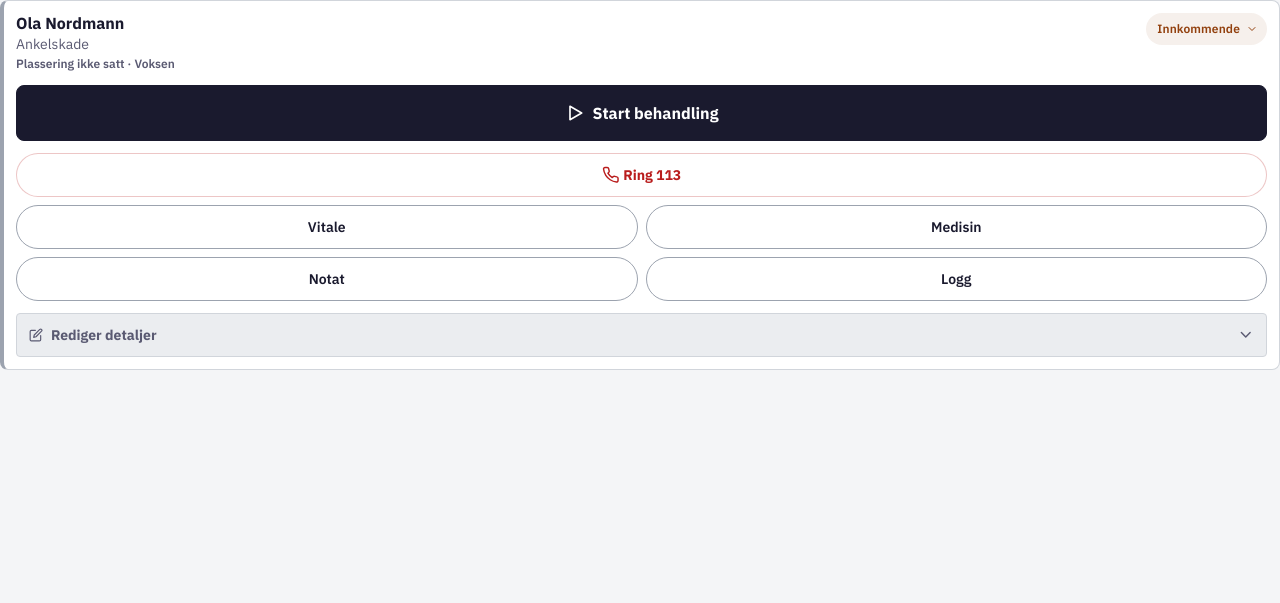
Test: PatientCard — placement editor free-number quick picks (item 8.30) › offers the lowest free numbers for the chosen type
The width and height of the screenshot is (1280, 603).
Click the button with test id "edit-details-toggle-pat-transport-1" at [104, 335], box [16, 313, 1267, 357]
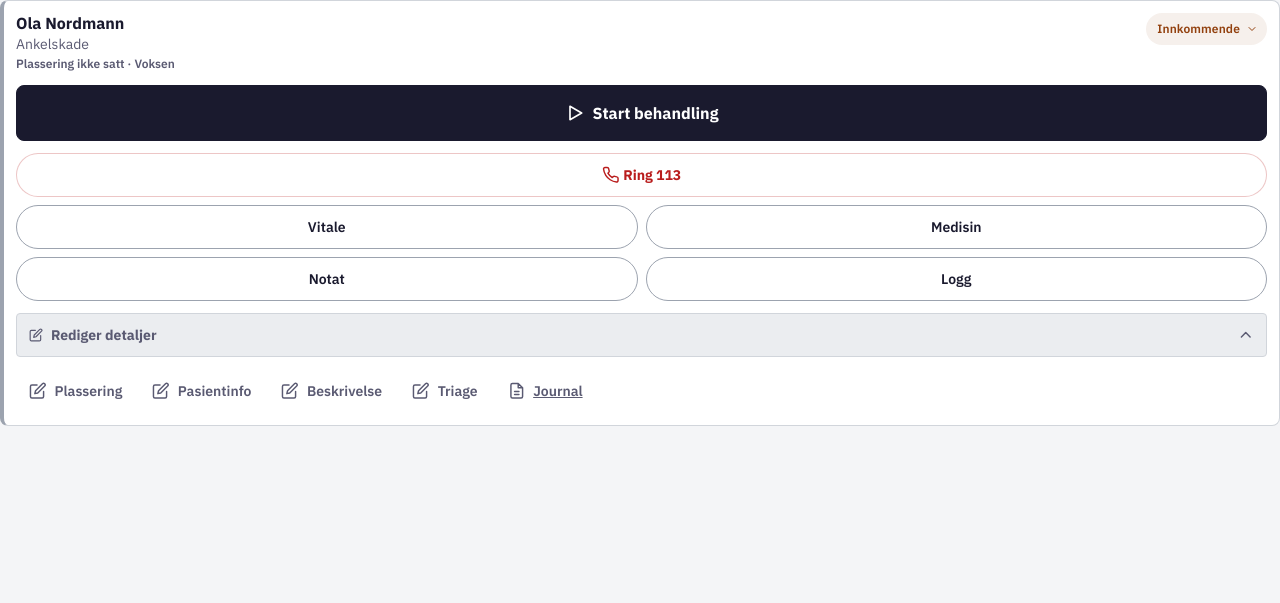
Click the button with aria-label "Rediger plassering" at [76, 391], box [16, 369, 135, 413]
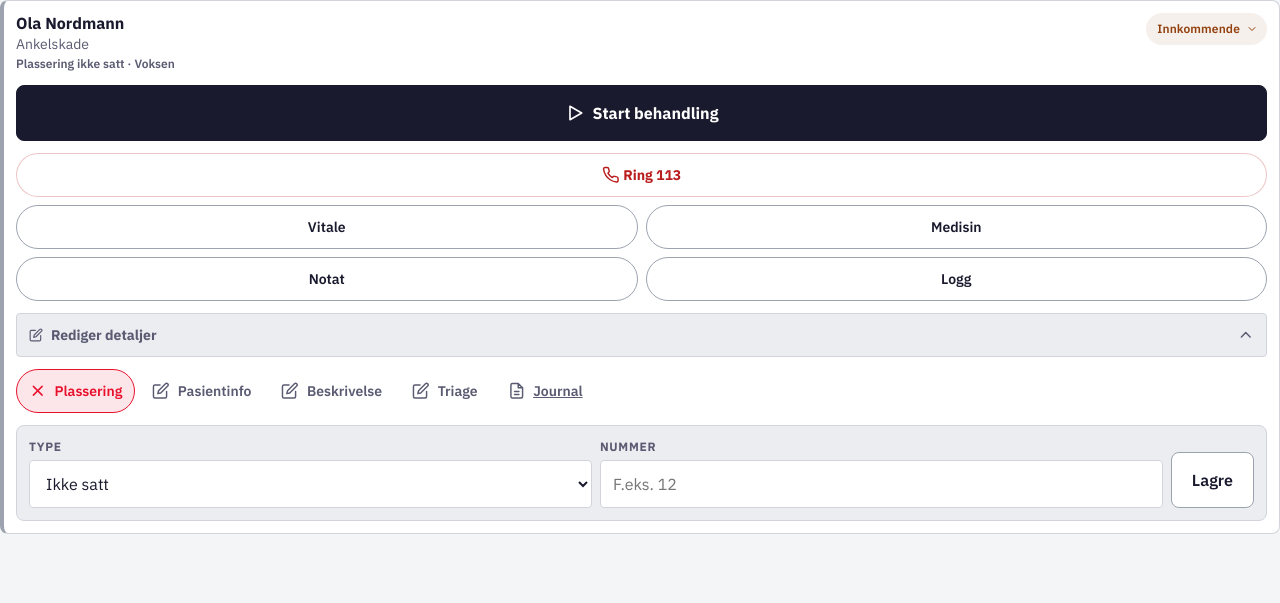
Select "Stol" in the dropdown labelled "Type" at [310, 484], box [29, 460, 592, 508]
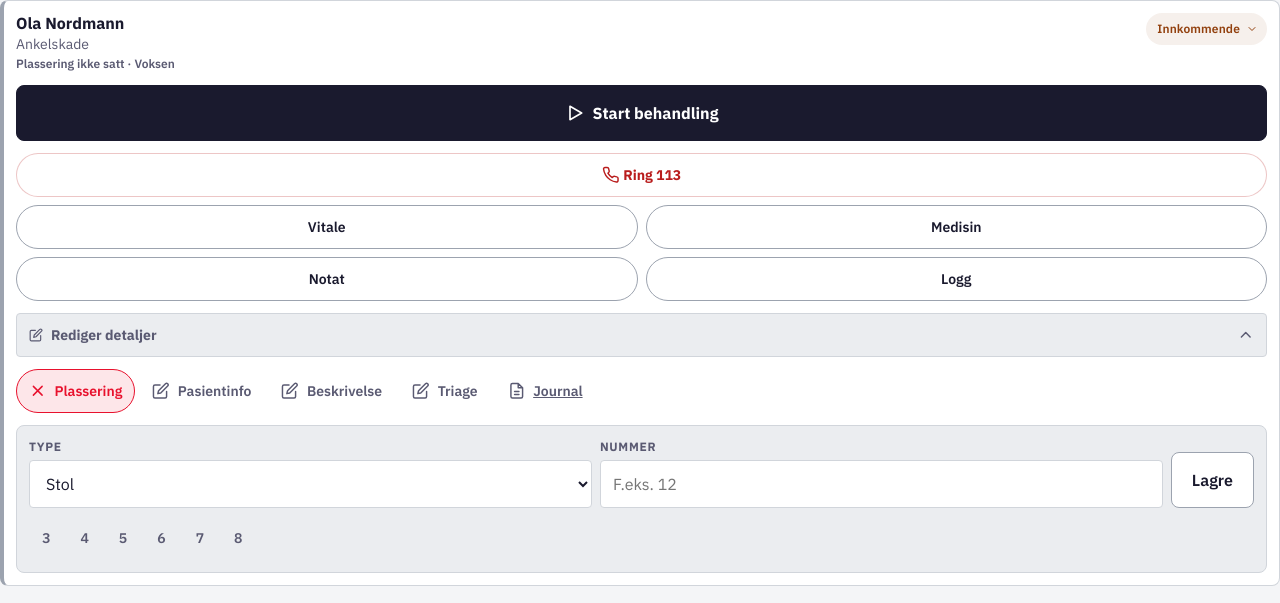
Expected: the button with test id "placement-free-3" is shown, [29, 516, 63, 560]
